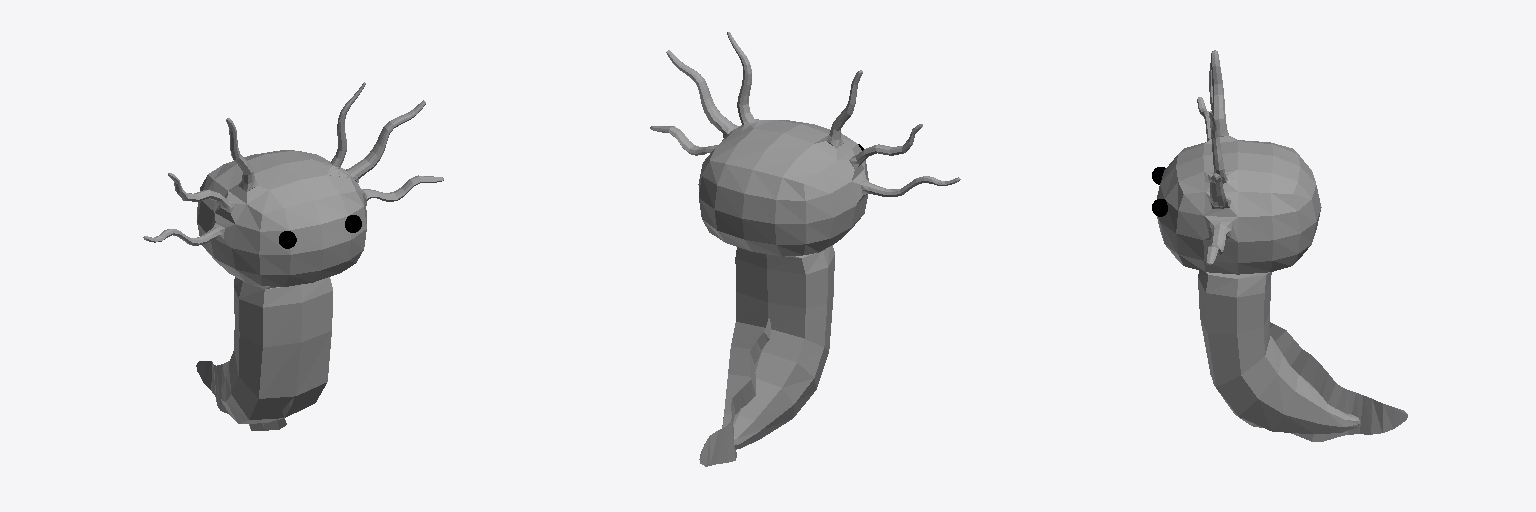
Rendered from salamandra.obj.
The picture shows the model from 3 angles: view 1: azimuth 30°, elevation 25°; view 2: azimuth 150°, elevation 25°; view 3: azimuth 270°, elevation 25°; orthographic projection.
Parts seen in each view (by area): view 1: Cube; view 2: Cube; view 3: Cube.
Boxes of the visible parts, <box> form: Cube: <box>143,82,443,430</box>; Cube: <box>650,32,960,466</box>; Cube: <box>1157,50,1407,441</box>.
Bounding box in the file's own units: 1.81 × 2.05 × 1.32.